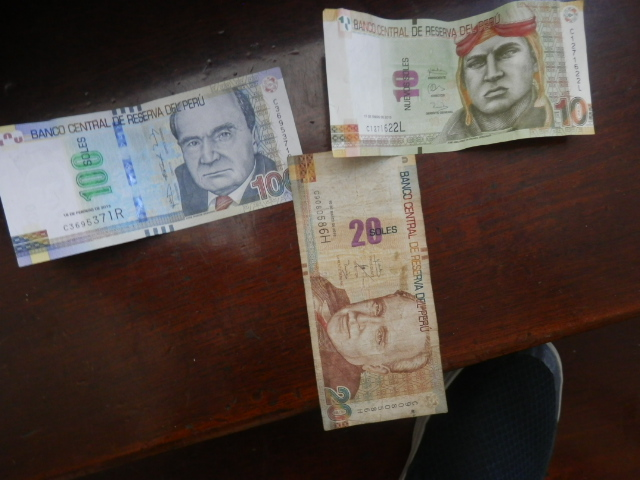B10: (314, 3, 613, 161)
B100: (4, 67, 323, 276)
B20: (272, 145, 482, 436)
